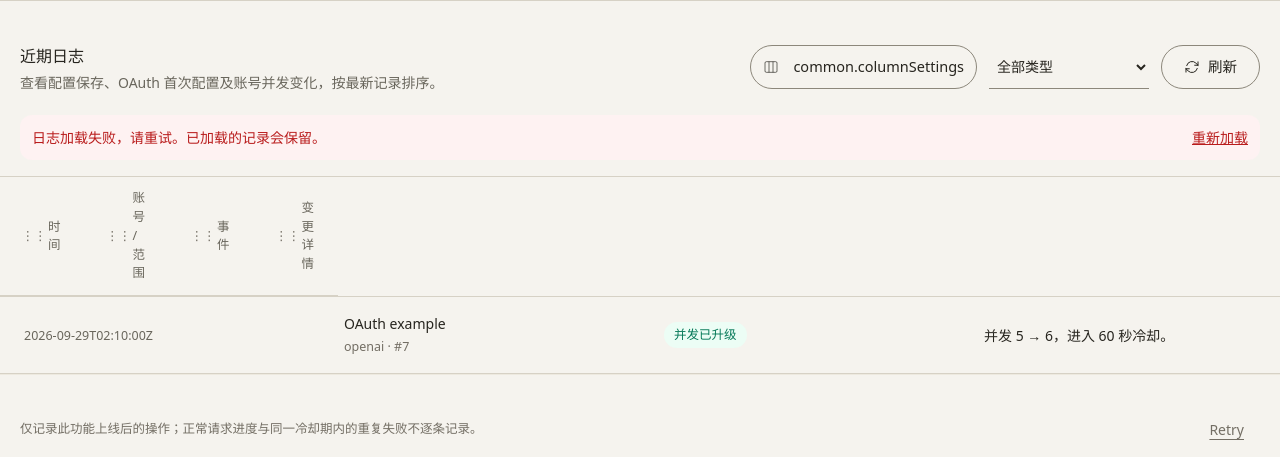
it: AutoConfigHistory › preserves loaded rows after a pagination error and retries that cursor
This screenshot has width=1280, height=457.
Check: the number of rows with test id "history-row" is 1, box [0,297,1279,373]
Check: the message "日志加载失败，请重试。已加载的记录会保留。 重新加载" is shown, box [20,115,1260,160]
Click the button with test id "history-retry": point(1220, 138) [1192,127,1248,148]
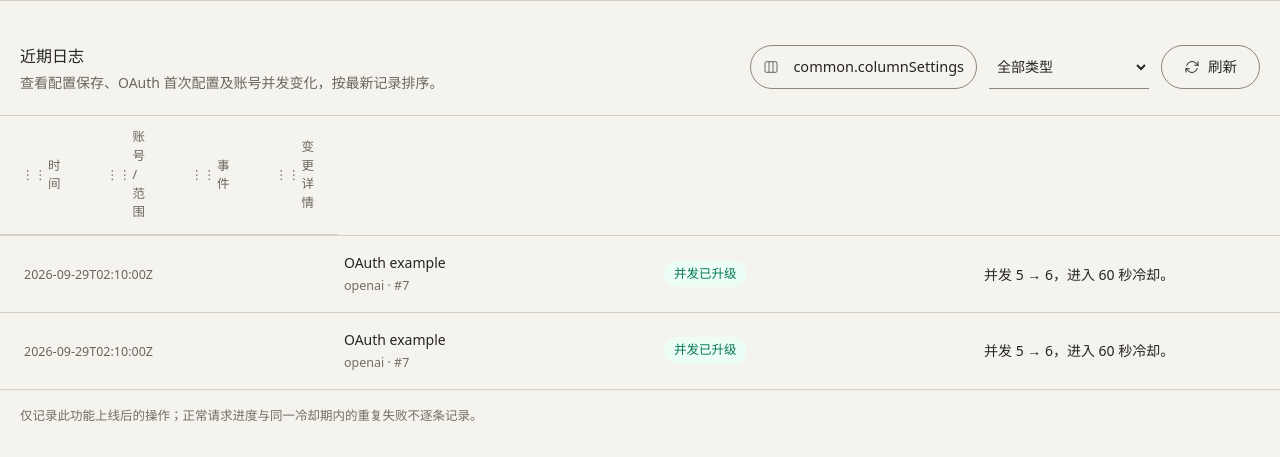
Check: the number of rows with test id "history-row" is 2, box [0,236,1279,312]; [0,312,1279,389]
